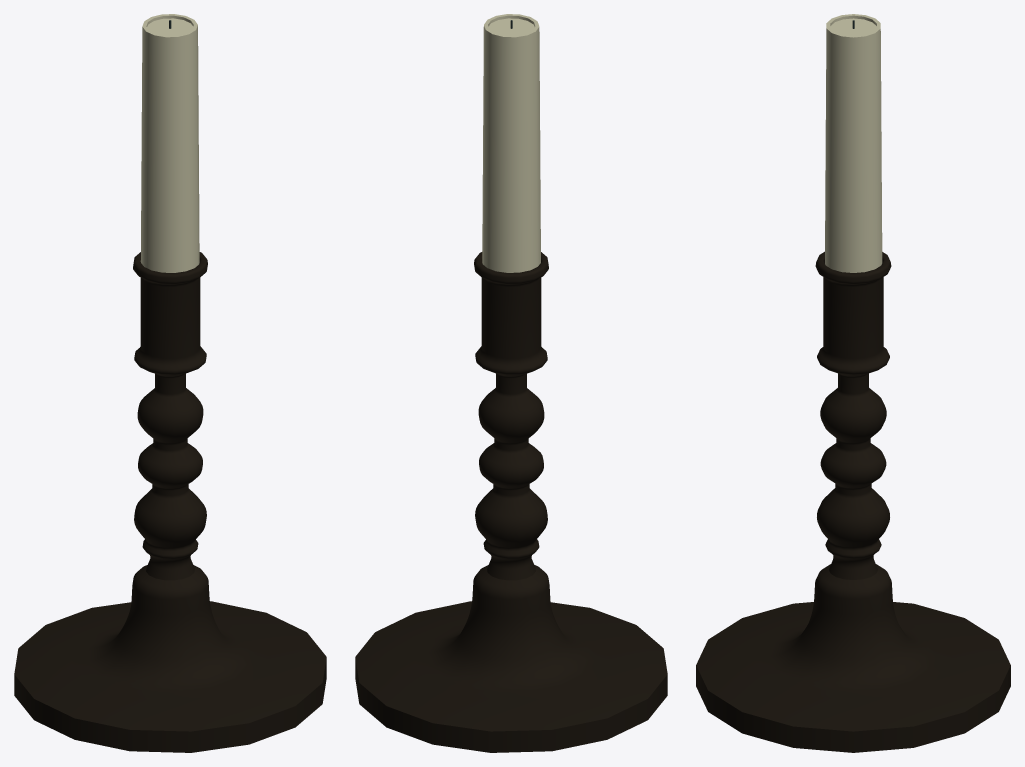
The model's file is Candle2.fbx.
3 renders of one model, left to right at view 1: azimuth 30°, elevation 25°; view 2: azimuth 150°, elevation 25°; view 3: azimuth 270°, elevation 25°, orthographic.
Visible parts, largest first — view 1: Candle2; view 2: Candle2; view 3: Candle2.
Boxes of the visible parts, x1=… form: Candle2: x1=14, y1=14, x2=326, y2=752; Candle2: x1=355, y1=14, x2=667, y2=752; Candle2: x1=696, y1=14, x2=1010, y2=752.
Size of the model in its own units: 16.88 by 39.38 by 16.88.
